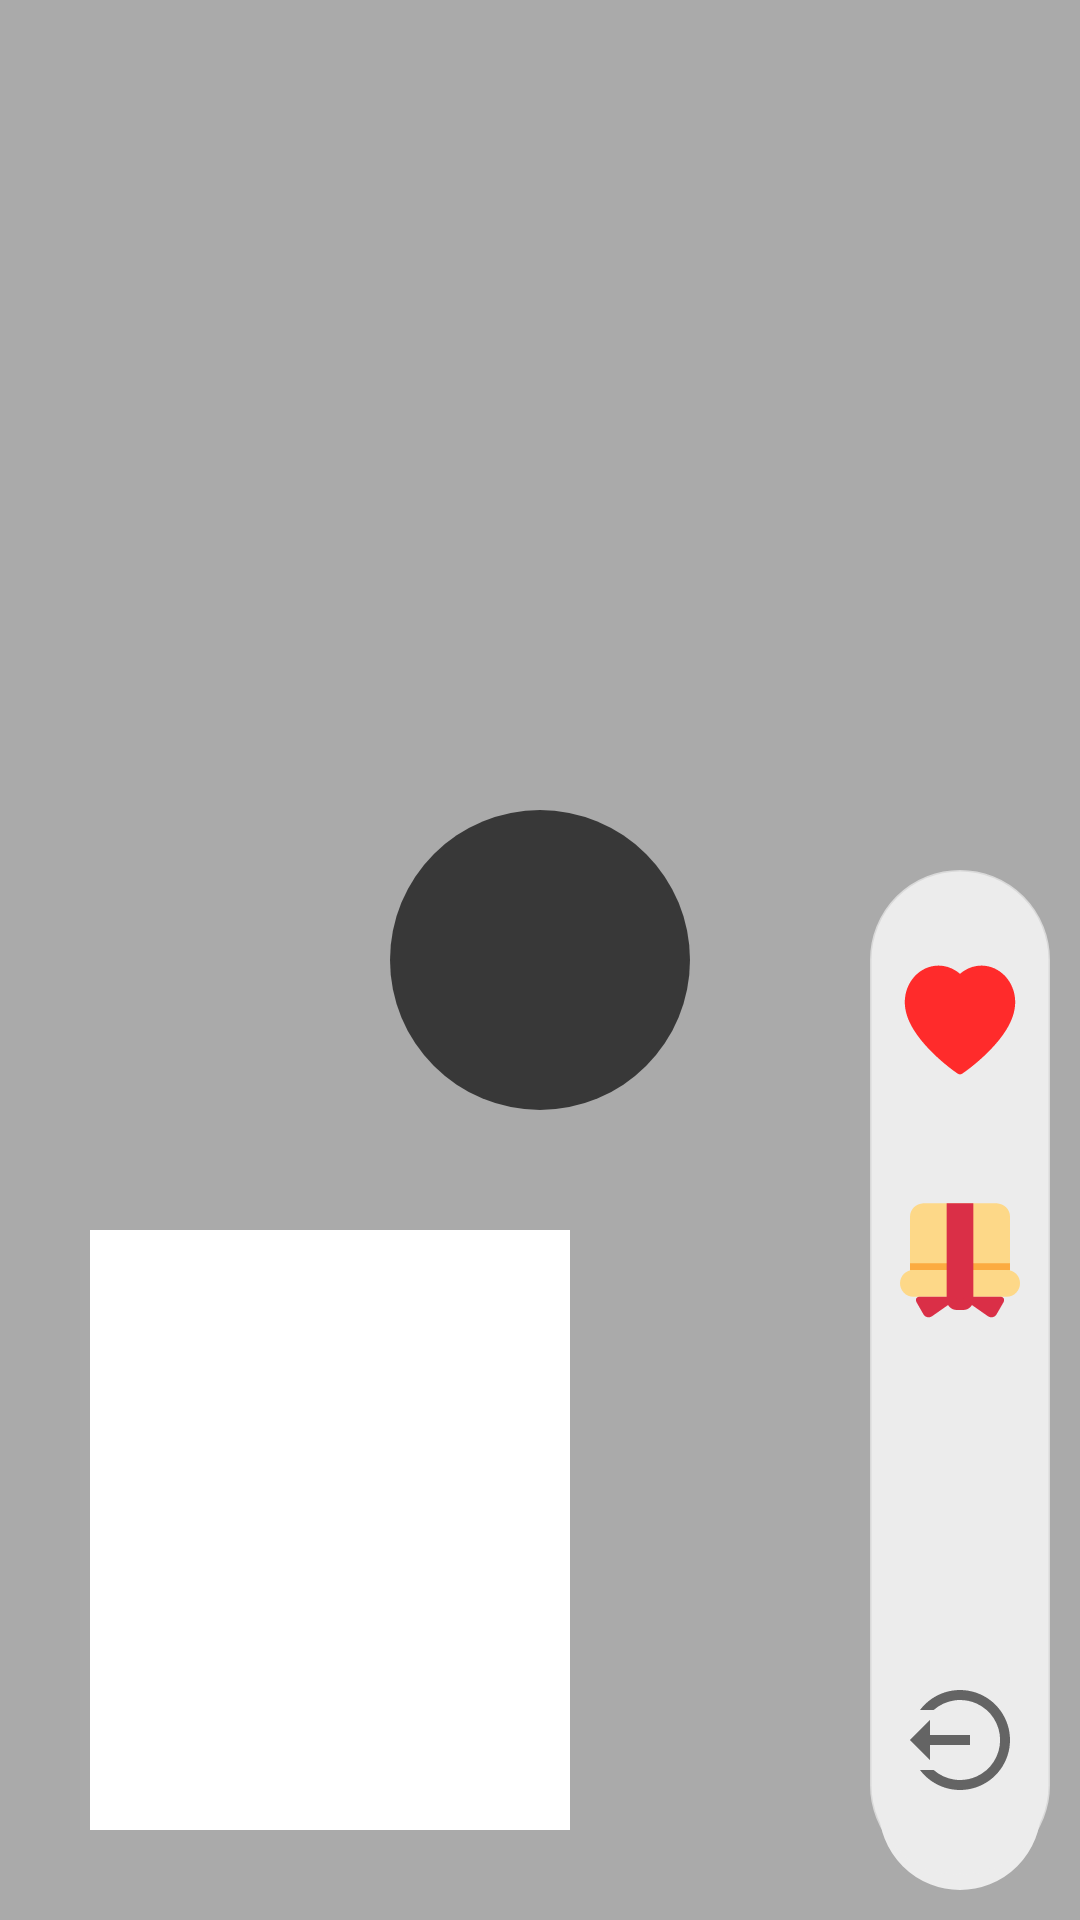

Named icons in this screenshot (1080px×1920px) and their bounding boxes, (left=x1, top=y1, right=x2, bottom=y2):
heart: (left=904, top=965, right=1016, bottom=1075)
